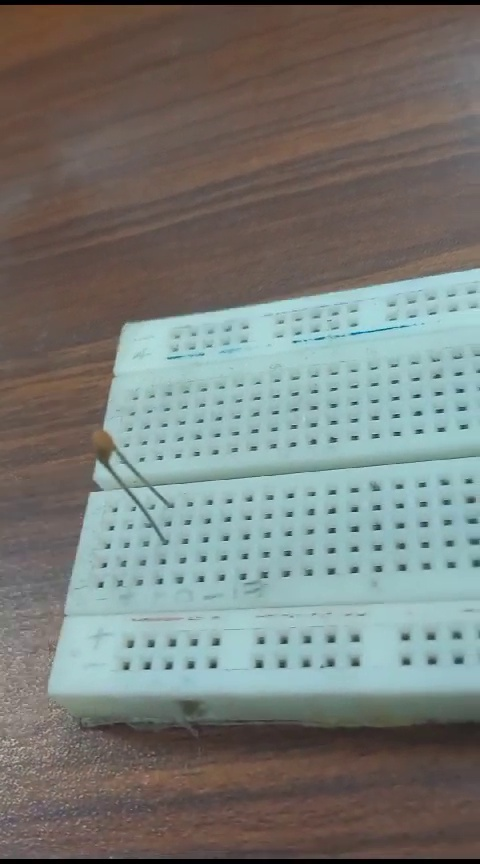ceramic capacitor: (90, 431, 182, 548)
